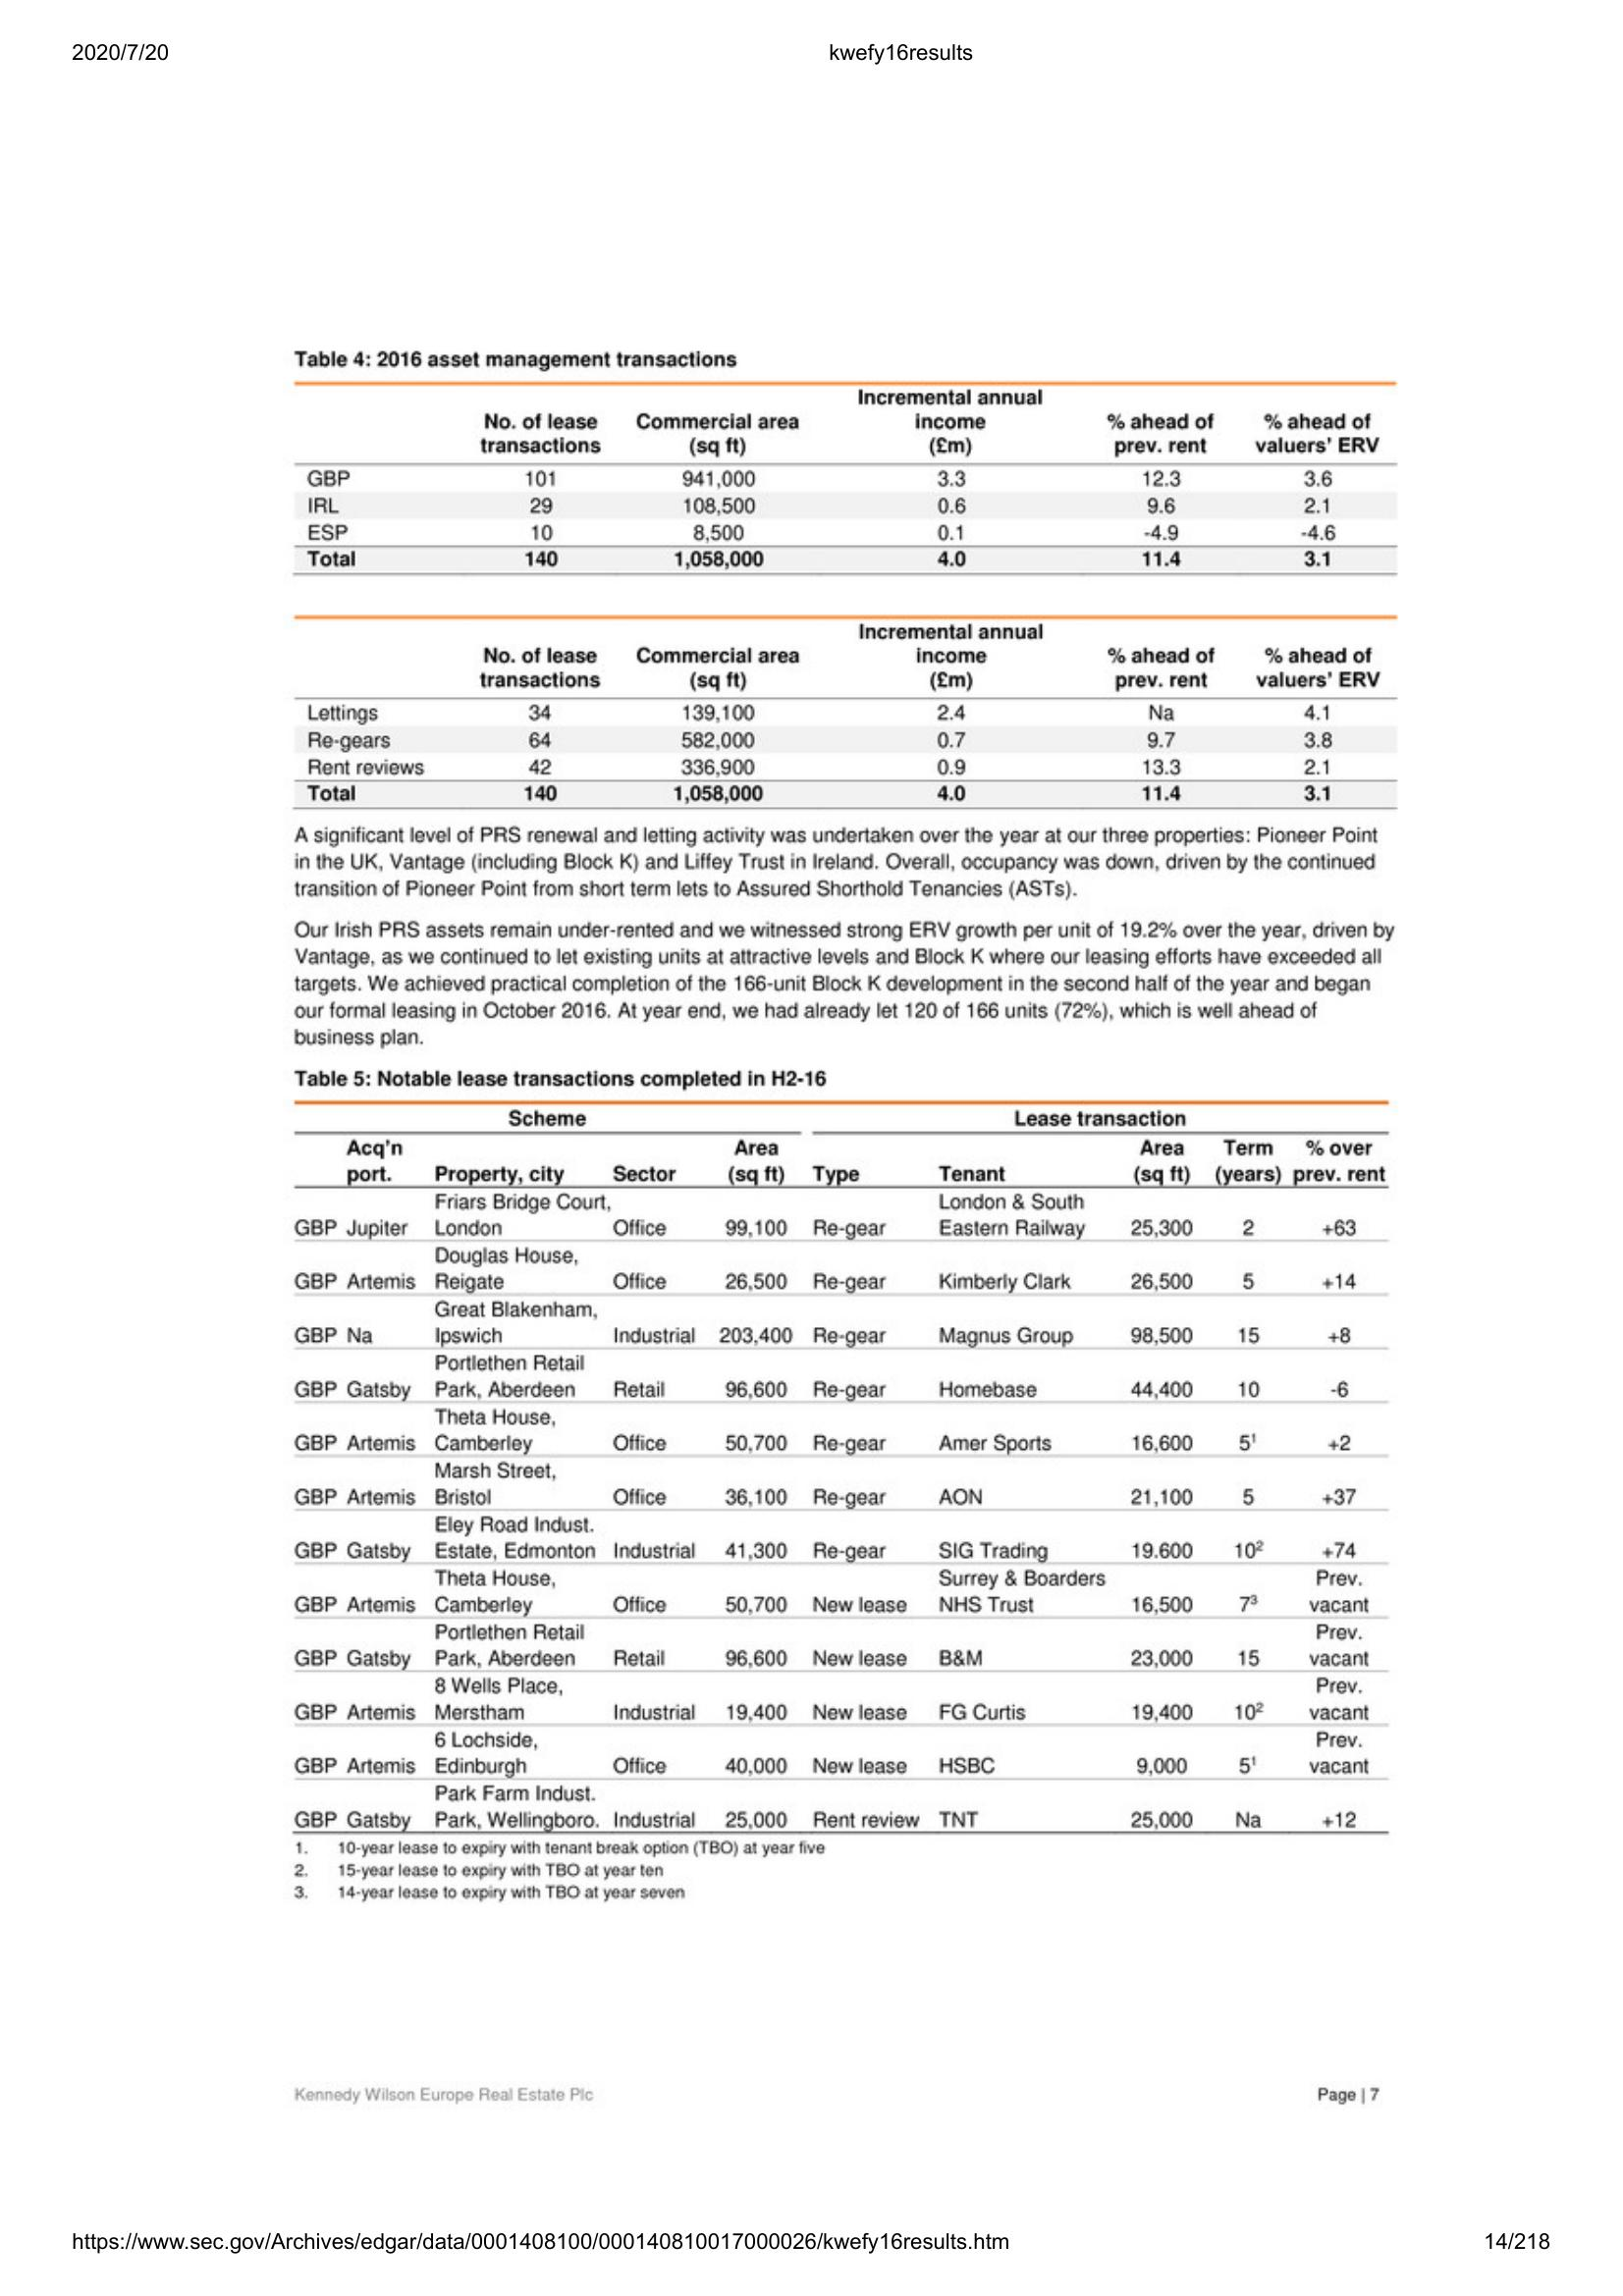table: (278, 1090, 1398, 1843), (286, 377, 1403, 816)
